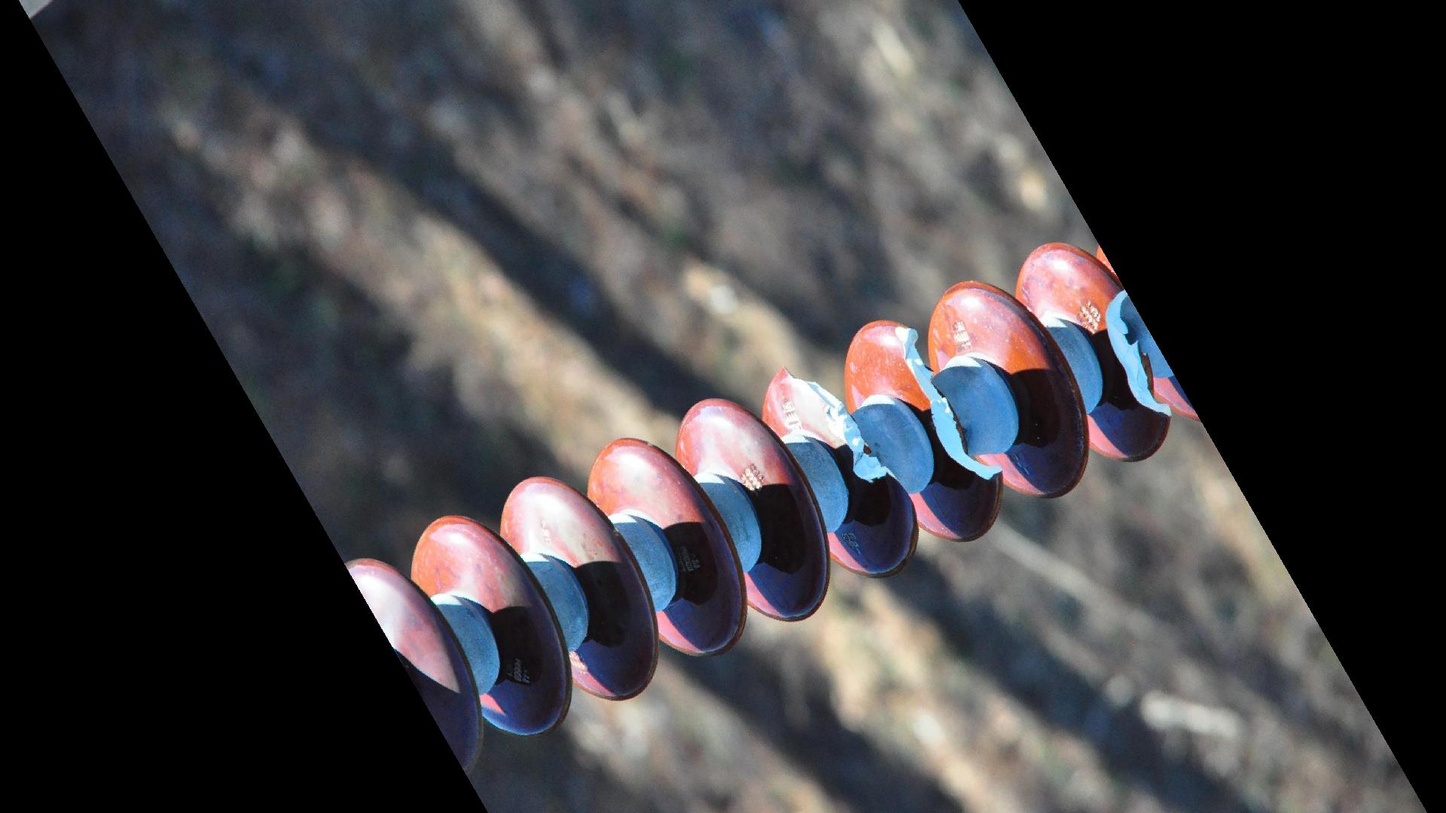insulator: (341, 230, 1188, 781)
insulator_breakage: (886, 317, 1009, 491), (769, 363, 905, 496), (1095, 285, 1178, 429)
